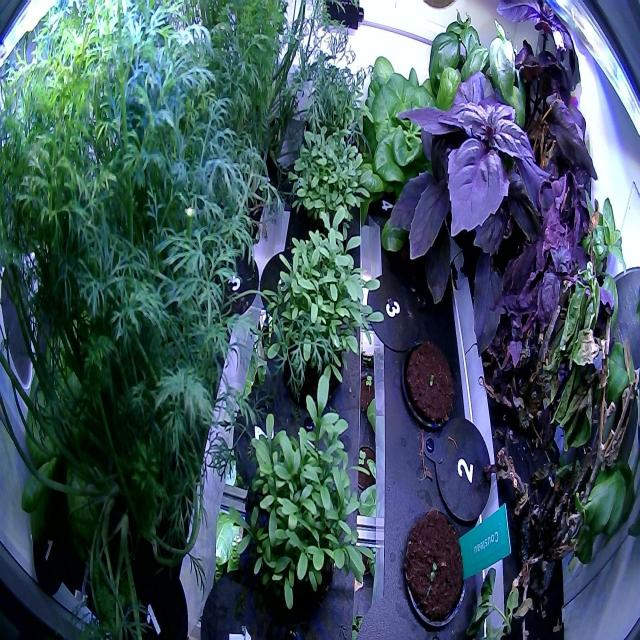Ready: (340, 49, 470, 262)
germination: (397, 502, 469, 632), (396, 333, 459, 439)
